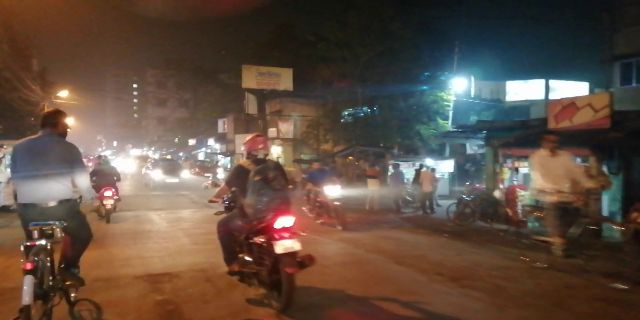Cycle: (12, 101, 82, 314)
Motorbike: (202, 133, 314, 311)
